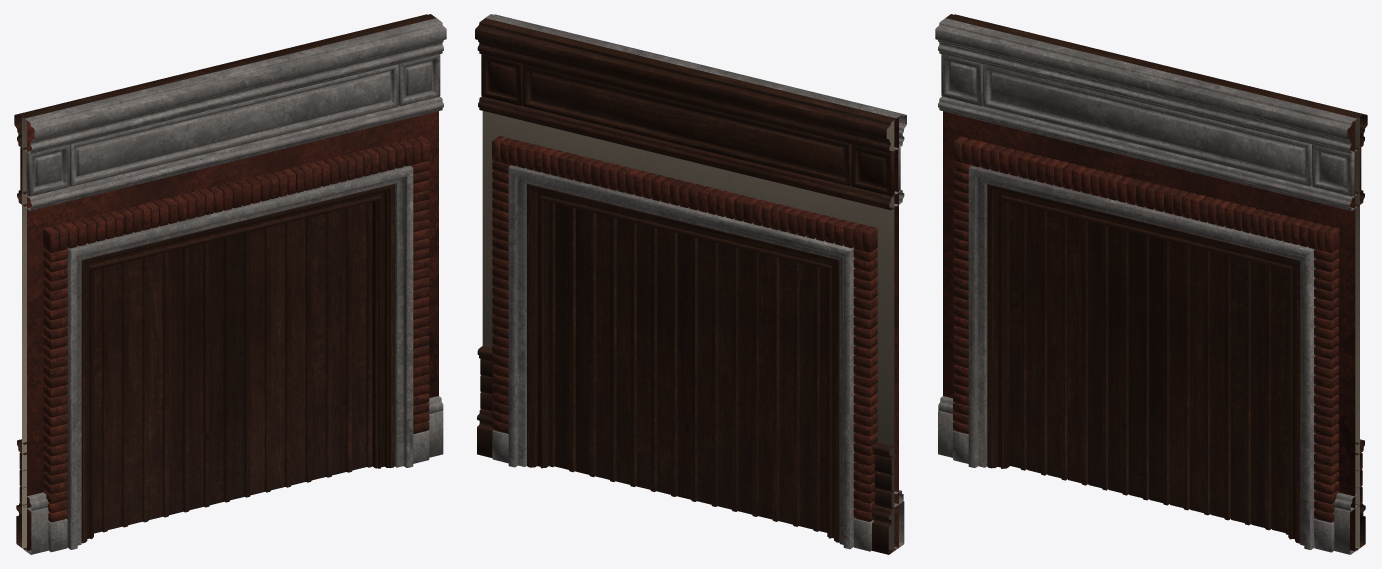
The model's file is SK6 GARAGE.fbx.
3 renders of one model, left to right at view 1: azimuth 30°, elevation 25°; view 2: azimuth 150°, elevation 25°; view 3: azimuth 330°, elevation 25°, orthographic.
Parts seen in each view (by area): view 1: SK6 GARAGE; view 2: SK6 GARAGE; view 3: SK6 GARAGE.
Part boxes in pixels (x1,y1,x2,y2): SK6 GARAGE: (14, 14, 446, 554); SK6 GARAGE: (475, 14, 906, 554); SK6 GARAGE: (935, 14, 1367, 554).
Size of the model in its own units: 400 by 400 by 40.15.
